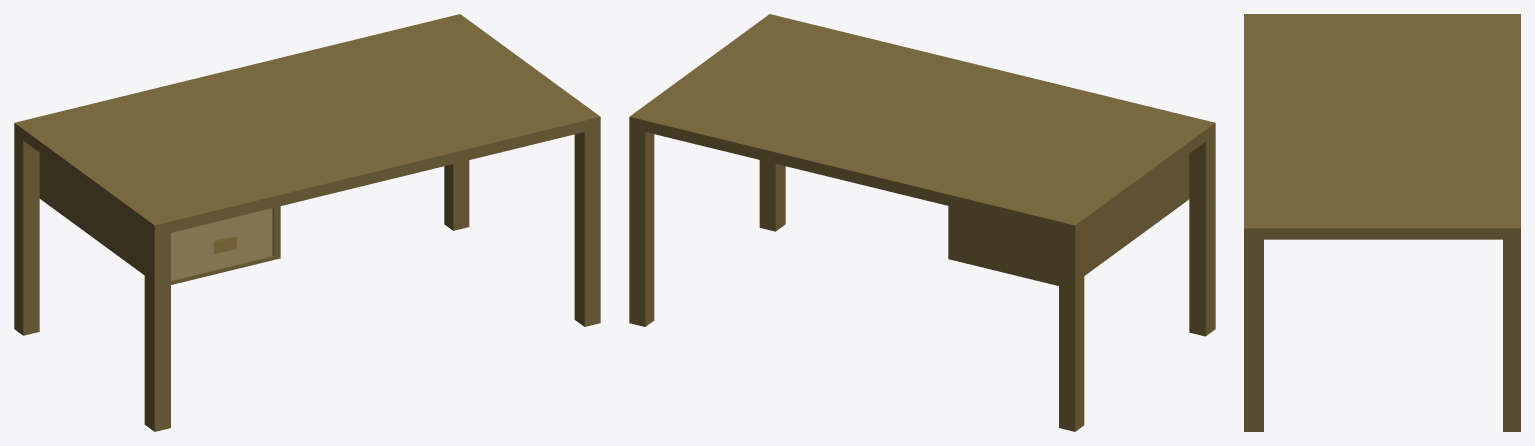
File: Office_Desk.fbx
3 renders of one model, left to right at view 1: azimuth 30°, elevation 25°; view 2: azimuth 150°, elevation 25°; view 3: azimuth 270°, elevation 25°, orthographic.
Parts seen in each view (by area): view 1: Table, pCube2; view 2: Table; view 3: Table.
Boxes of the visible parts, x1,y1,x2,y2 form: Table: (14,14,600,431); pCube2: (171,208,272,280); Table: (629,14,1215,431); Table: (1244,14,1520,431).
Bounding box in the file's own units: 10.74 × 4.75 × 5.85.
